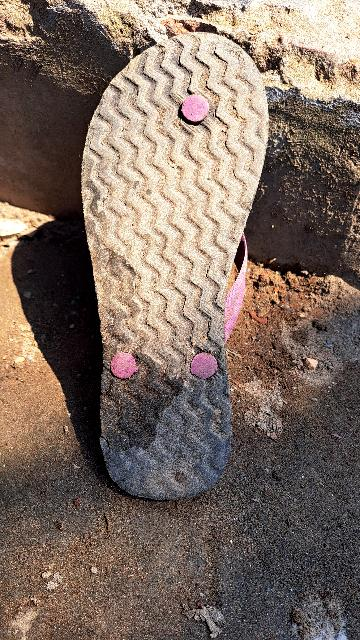sandal: (70, 6, 275, 494)
